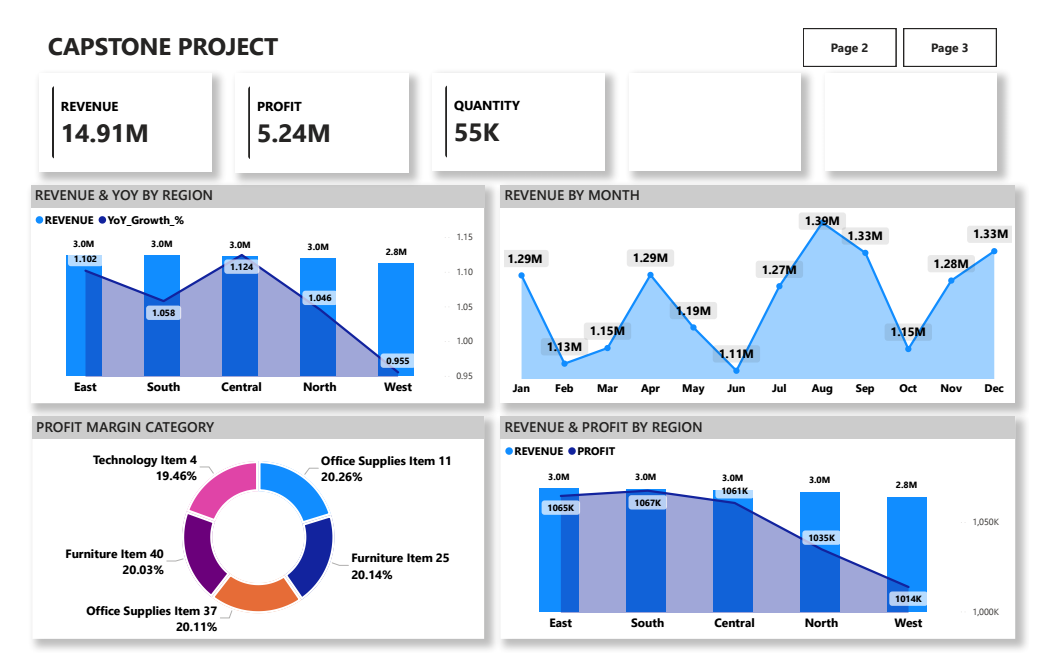

Layout of this report page (visuals, bound fields, positions):
{"tool":"powerbi","page":{"name":"OVERALL","canvas":[1350,850],"ordinal":0},"visuals":[{"type":"lineClusteredColumnComboChart","title":"REVENUE & YOY BY REGION","fields":{"Category":["Sales_Data.Region"],"Y":["All_Measures.Total_revenue"],"Y2":["All_Measures.YoY_Growth_%"]},"box":[17.3,223.8,604.9,291.6],"z":0},{"type":"lineChart","title":"REVENUE BY MONTH","fields":{"Category":["CalenderSales.Month_name"],"Y":["All_Measures.Total_revenue"]},"box":[643.9,223.8,687.2,291.6],"z":1000},{"type":"donutChart","title":"PROFIT MARGIN CATEGORY","fields":{"Category":["Sales_Data.Product_Name"],"Y":["All_Measures.Total_Profit_margin"]},"box":[18.8,532.7,603.4,297.4],"z":2000},{"type":"kpi","fields":{"Indicator":["All_Measures.Total_revenue"],"TrendLine":["CalenderSales.Month"],"Goal":["All_Measures.Target_sales"]},"box":[815.6,73,229.5,131.4],"z":3000},{"type":"kpi","fields":{"TrendLine":["CalenderSales.Month"],"Indicator":["All_Measures.Total_Profit"],"Goal":["All_Measures.Target_Profit"]},"box":[1077.5,73,229.5,131.4],"z":4000},{"type":"lineClusteredColumnComboChart","title":"REVENUE & PROFIT BY REGION","fields":{"Category":["Sales_Data.Region"],"Y":["All_Measures.Total_revenue"],"Y2":["All_Measures.Total_Profit"]},"box":[643.9,532.7,687.2,297.4],"z":5000},{"type":"cardVisual","fields":{"Data":["All_Measures.Total_revenue"]},"box":[28,74.5,229.5,131.4],"z":6000},{"type":"cardVisual","fields":{"Data":["All_Measures.Total_Profit"]},"box":[289.9,74.5,231,132.8],"z":7000},{"type":"cardVisual","fields":{"Data":["All_Measures.Total_quantity"]},"box":[553.3,73,230,131.4],"z":8000},{"type":"pageNavigator","box":[1048.1,14.4,258.4,52],"z":9000},{"type":"textbox","box":[34.6,8.7,453.3,83.7],"z":10000}]}

Visuals, with their boxes in screenshot pixels (x1, y1, x2, y2), scaled from the page's 1350x850 canvas onto the 1048x672 screenshot:
"REVENUE & YOY BY REGION" lineClusteredColumnComboChart: l=13, t=177, r=483, b=407
"REVENUE BY MONTH" lineChart: l=500, t=177, r=1033, b=407
"PROFIT MARGIN CATEGORY" donutChart: l=15, t=421, r=483, b=656
kpi - All_Measures.Total_revenue x CalenderSales.Month: l=633, t=58, r=811, b=162
kpi - CalenderSales.Month x All_Measures.Total_Profit: l=836, t=58, r=1015, b=162
"REVENUE & PROFIT BY REGION" lineClusteredColumnComboChart: l=500, t=421, r=1033, b=656
cardVisual - All_Measures.Total_revenue: l=22, t=59, r=200, b=163
cardVisual - All_Measures.Total_Profit: l=225, t=59, r=404, b=164
cardVisual - All_Measures.Total_quantity: l=430, t=58, r=608, b=162
pageNavigator: l=814, t=11, r=1014, b=52
textbox: l=27, t=7, r=379, b=73
